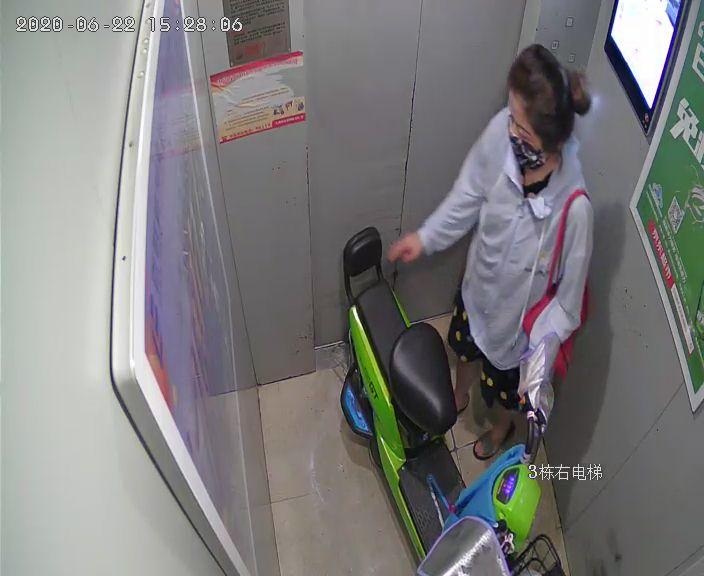Electric-bicycle: (336, 223, 561, 575)
